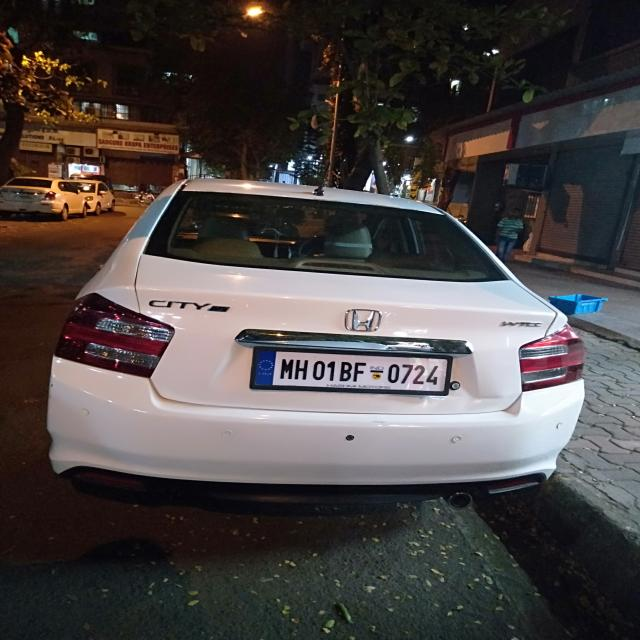Number-Plate: (259, 353, 452, 389)
